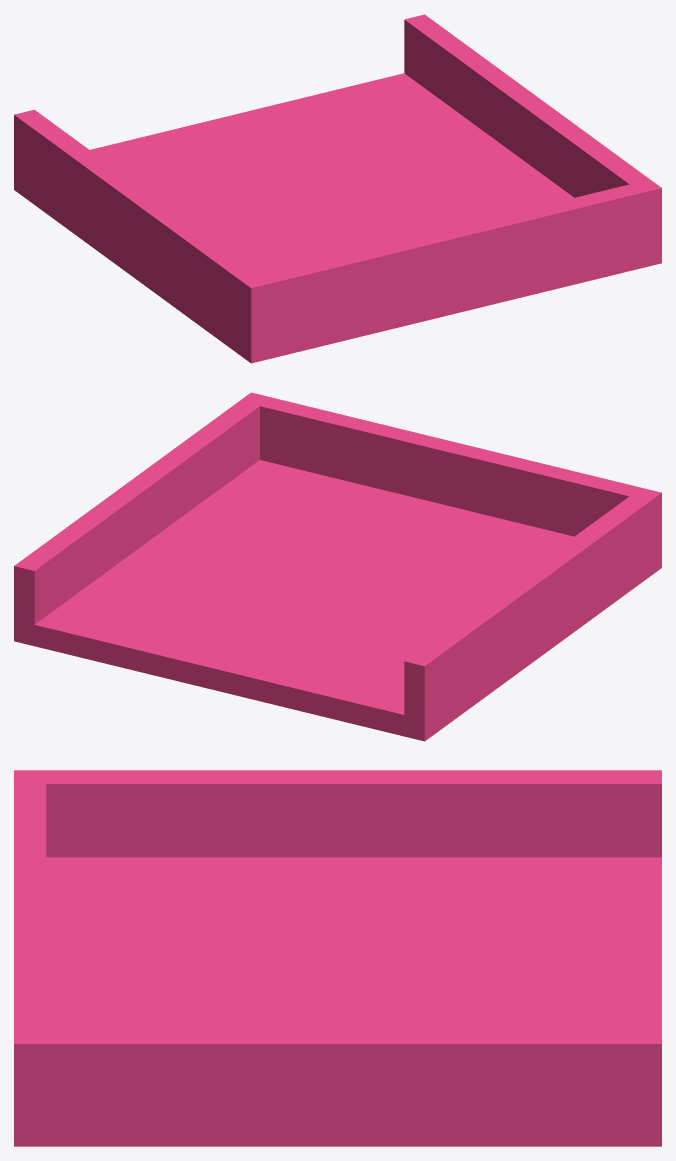
File: PinkRoof_3Edges.glb
3 views of the same model, one above another, from view 1: azimuth 30°, elevation 25°; view 2: azimuth 150°, elevation 25°; view 3: azimuth 270°, elevation 25° (orthographic). The views are drawn at different scales.
Parts seen in each view (by area): view 1: roof_flat_3Edges_pink; view 2: roof_flat_3Edges_pink; view 3: roof_flat_3Edges_pink.
Part boxes in pixels (x1,y1,x2,y2): roof_flat_3Edges_pink: [14, 14, 661, 363]; roof_flat_3Edges_pink: [14, 392, 661, 741]; roof_flat_3Edges_pink: [14, 770, 661, 1146].
Size of what is drawn, in the model's own units: 4 by 0.7 by 4.
Materials: 1 (1 with a texture image).
